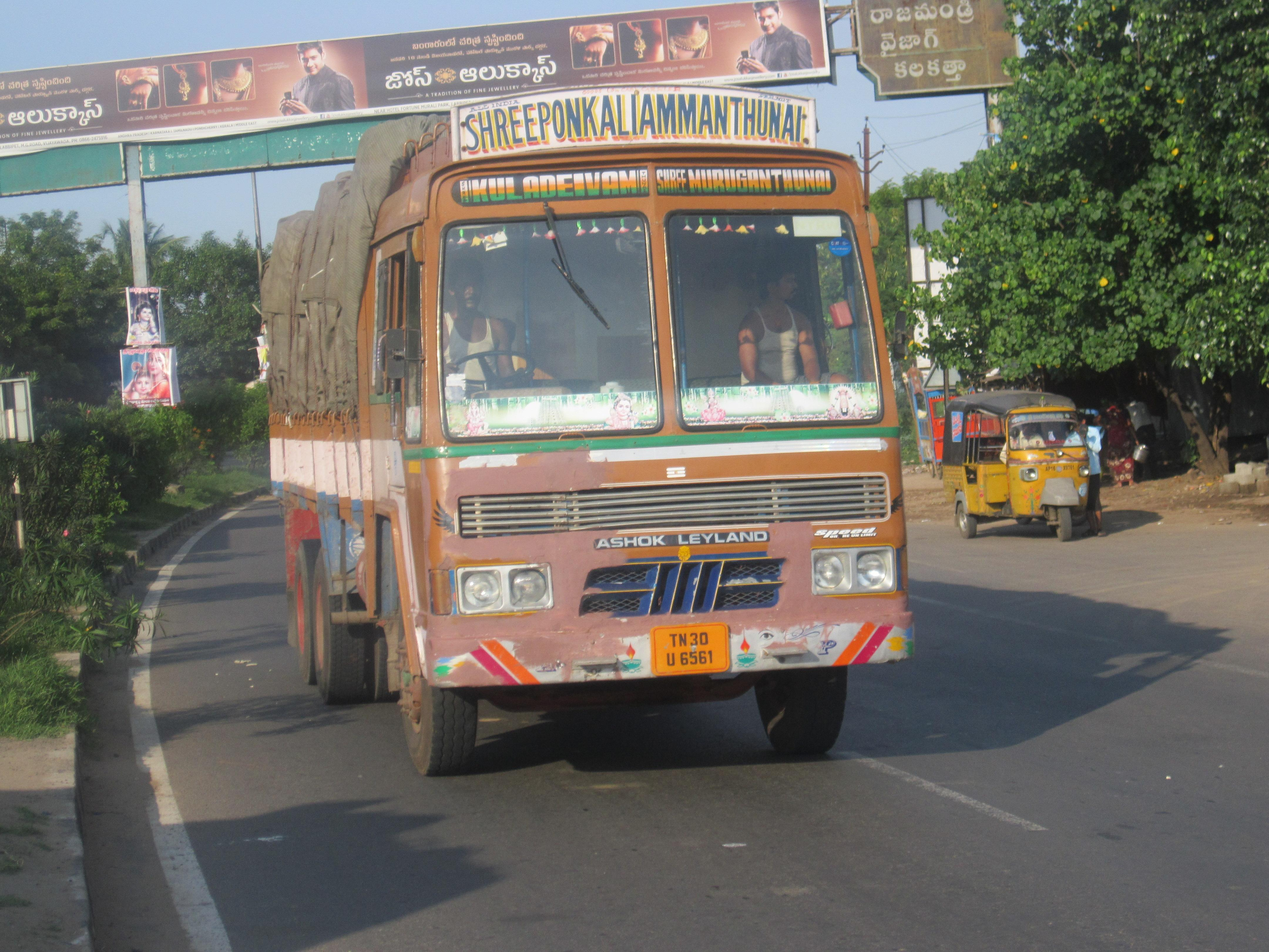truck: (229, 88, 966, 795)
